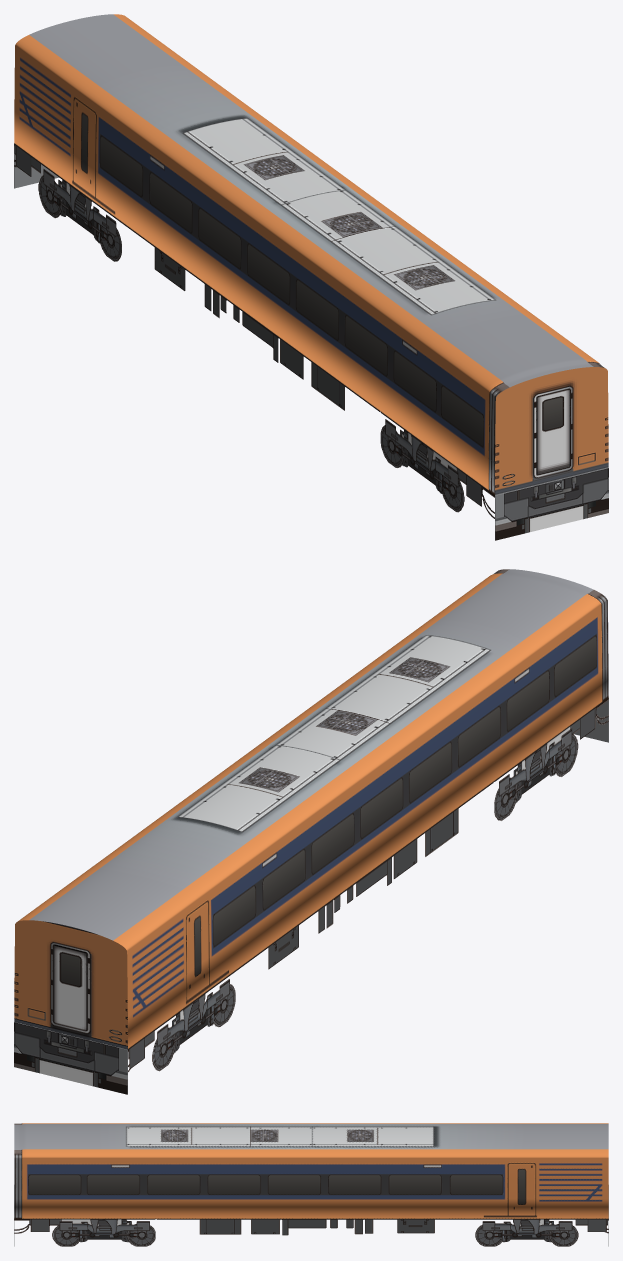
Rendered from car3.glb.
3 renders of one model, top to bottom at view 1: azimuth 30°, elevation 25°; view 2: azimuth 150°, elevation 25°; view 3: azimuth 270°, elevation 25°, orthographic. The views are drawn at different scales.
Visible parts, largest first — view 1: kintetsu-22000-car3; view 2: kintetsu-22000-car3; view 3: kintetsu-22000-car3.
Boxes of the visible parts, left/top/right/bottom form: kintetsu-22000-car3: left=14, top=14, right=608, bottom=540; kintetsu-22000-car3: left=14, top=569, right=608, bottom=1094; kintetsu-22000-car3: left=14, top=1123, right=608, bottom=1246.
Size of the model in its own units: 2.8 by 3.63 by 20.54.
Materials: 8 (7 with a texture image).
